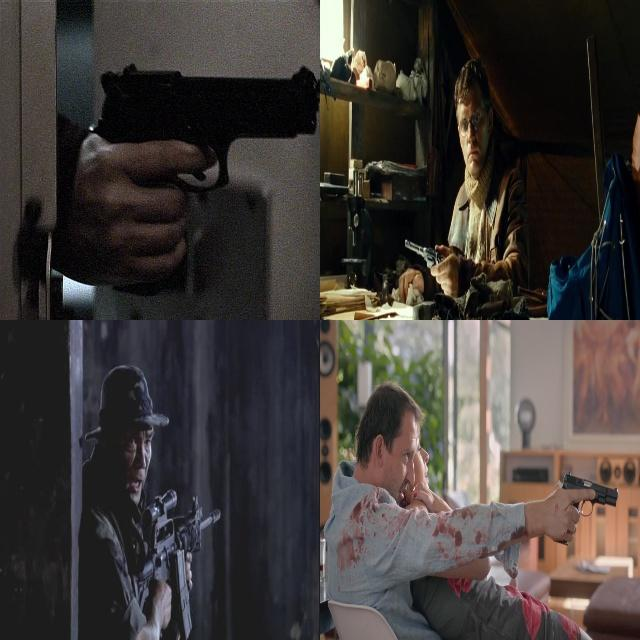gun: (71, 53, 319, 294), (125, 483, 220, 639), (551, 464, 621, 556), (402, 225, 459, 303)
